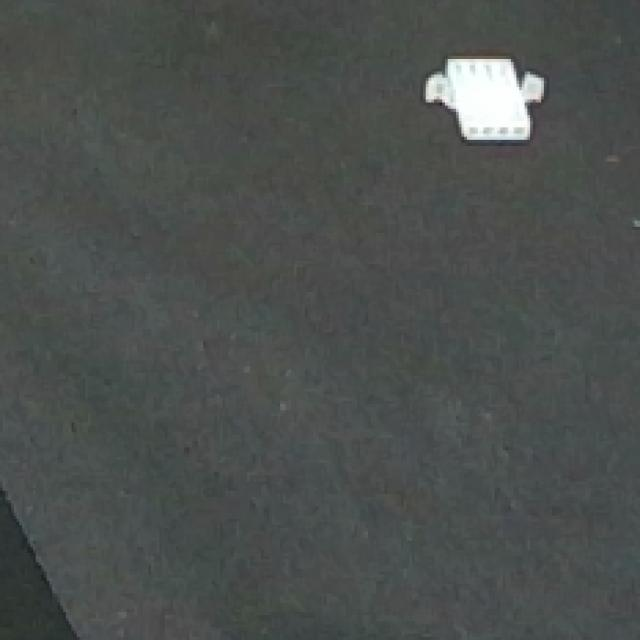Target: (410, 54, 554, 144)
